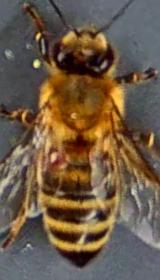varroa_mite: (42, 150, 70, 168)
